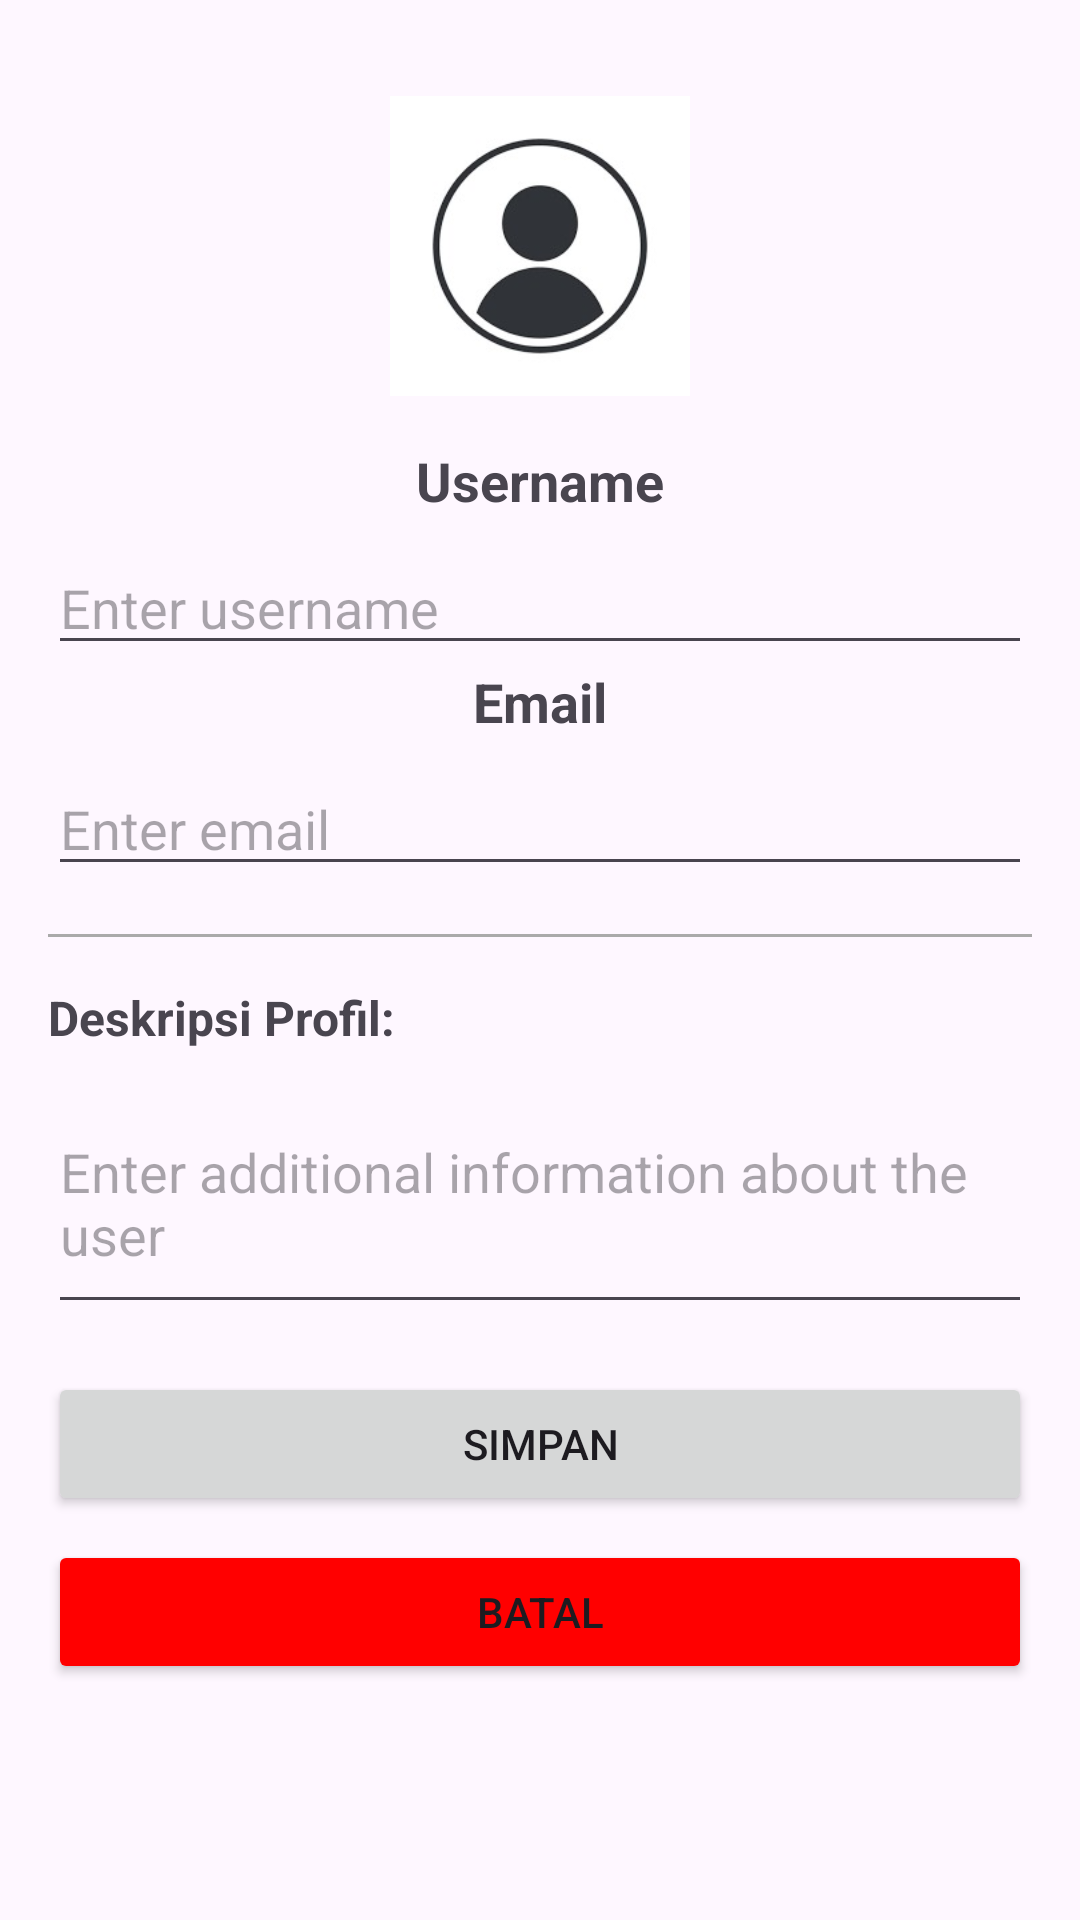

Screen size 1080px x 1920px. Icon name, then its center in pixels as point (x, y):
profile: point (540, 246)
